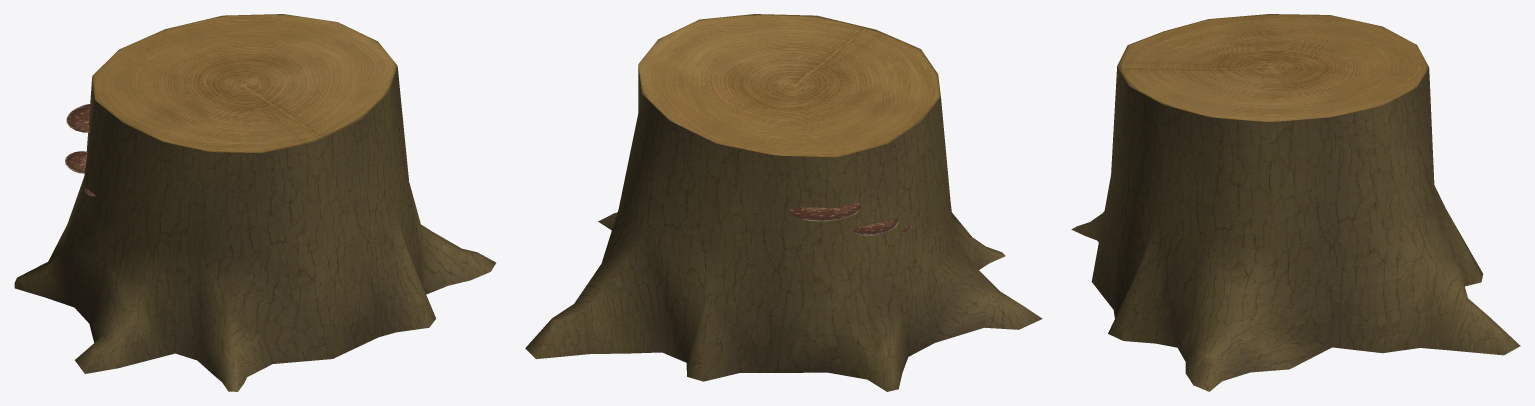
3 views of the same model, side by side, from view 1: azimuth 30°, elevation 25°; view 2: azimuth 150°, elevation 25°; view 3: azimuth 270°, elevation 25° (orthographic). The views are drawn at different scales.
Visible parts, largest first — view 1: Joint_0_Object_1, Joint_0_Object_2, Joint_0_Object_0; view 2: Joint_0_Object_1, Joint_0_Object_2, Joint_0_Object_0; view 3: Joint_0_Object_1, Joint_0_Object_2.
Part boxes in pixels (x1,y1,x2,y2): Joint_0_Object_1: [14, 66, 495, 391]; Joint_0_Object_2: [92, 14, 397, 153]; Joint_0_Object_0: [65, 104, 95, 196]; Joint_0_Object_1: [525, 66, 1042, 391]; Joint_0_Object_2: [638, 14, 940, 157]; Joint_0_Object_0: [789, 203, 911, 235]; Joint_0_Object_1: [1071, 66, 1520, 391]; Joint_0_Object_2: [1117, 14, 1428, 122].
Bounding box in the file's own units: 2347 × 1173 × 2120.
3 materials, 3 textured.
